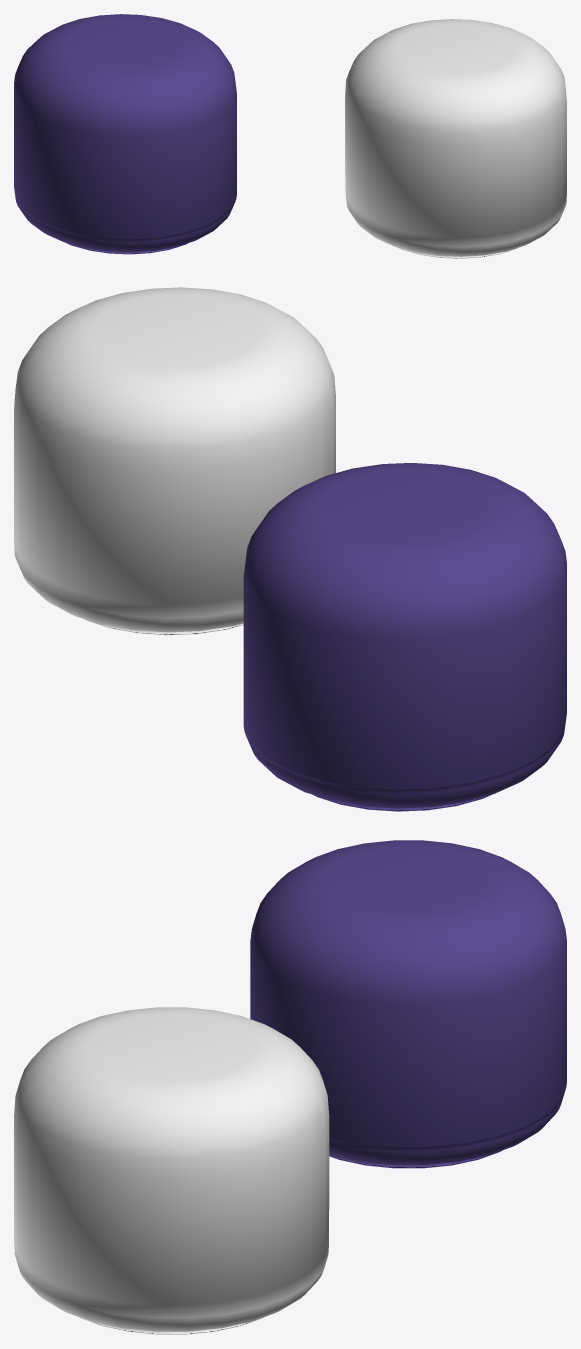
The model's file is demo.glb.
3 renders of one model, top to bottom at view 1: azimuth 30°, elevation 25°; view 2: azimuth 150°, elevation 25°; view 3: azimuth 270°, elevation 25°, orthographic. The views are drawn at different scales.
Visible parts, largest first — view 1: Cylinder; view 2: Cylinder; view 3: Cylinder.
Boxes of the visible parts, x1,y1,x2,y2 form: Cylinder: (14, 14, 566, 258); Cylinder: (14, 287, 566, 811); Cylinder: (14, 840, 566, 1334).
Size of what is drawn, in the model's own units: 5.93 by 2.27 by 4.74.
